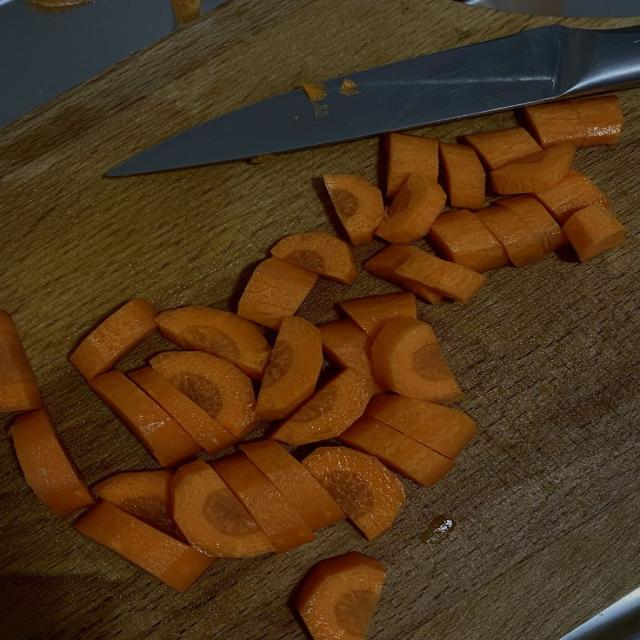carrot: (74, 501, 214, 591), (89, 371, 200, 466), (172, 460, 273, 557), (213, 455, 314, 552), (240, 439, 345, 530), (303, 447, 404, 541), (128, 367, 236, 454), (150, 352, 257, 438), (10, 409, 94, 517), (156, 306, 270, 379), (340, 415, 453, 486), (297, 552, 386, 639), (271, 370, 373, 445), (372, 318, 461, 403), (70, 299, 157, 379), (256, 317, 323, 420), (367, 395, 476, 458), (238, 258, 317, 329), (94, 470, 175, 534), (524, 96, 623, 147), (429, 210, 508, 272), (376, 174, 446, 243), (318, 320, 382, 393), (397, 250, 486, 302), (364, 245, 442, 304), (272, 232, 357, 284), (476, 205, 546, 266), (324, 175, 384, 245), (491, 144, 575, 194), (0, 310, 41, 412), (534, 171, 609, 225), (496, 196, 567, 252), (563, 204, 625, 261), (339, 293, 416, 338), (385, 134, 439, 197), (466, 128, 540, 170), (440, 143, 486, 209), (523, 101, 583, 148), (574, 96, 623, 146), (172, 0, 201, 25), (301, 82, 326, 102), (340, 79, 359, 95)
